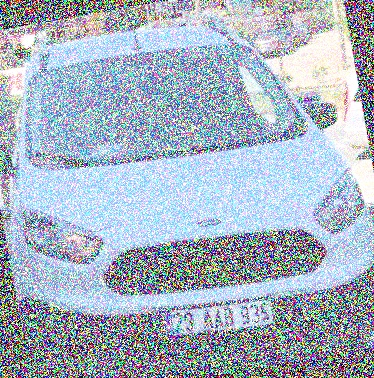plaka: (165, 300, 270, 335)
